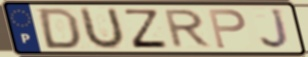D: (37, 6, 82, 50)
J: (259, 7, 293, 51)
P: (206, 8, 248, 50)
R: (163, 8, 214, 49)
U: (79, 6, 127, 51)
Z: (122, 8, 170, 50)
